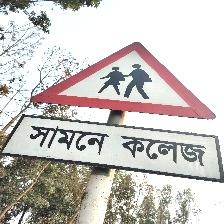College-in-front: (3, 39, 224, 204)
